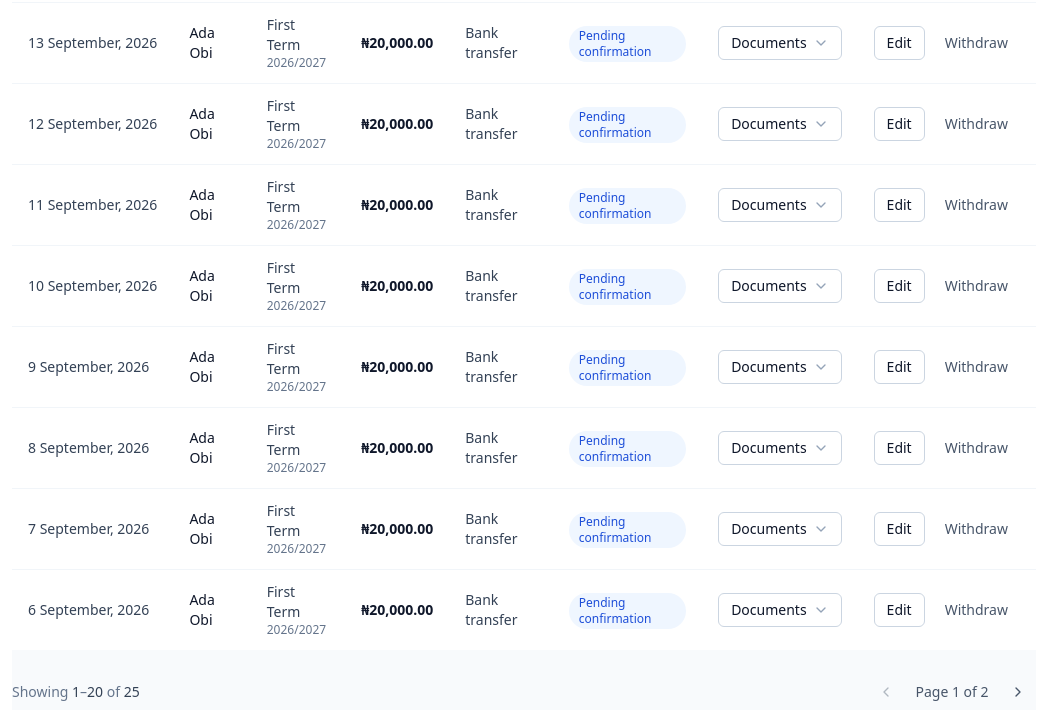
Test: WardPaymentsPage › pages the merged payments 20 at a time and resets to page 1 on a filter change
The image size is (1048, 710).
(page scrolled)
expect the text "Page 1 of 2" is shown: met, box left=916, top=682, right=989, bottom=701
Click the button named "Next page" at [1018, 692], box left=1000, top=674, right=1036, bottom=709
(page scrolled)
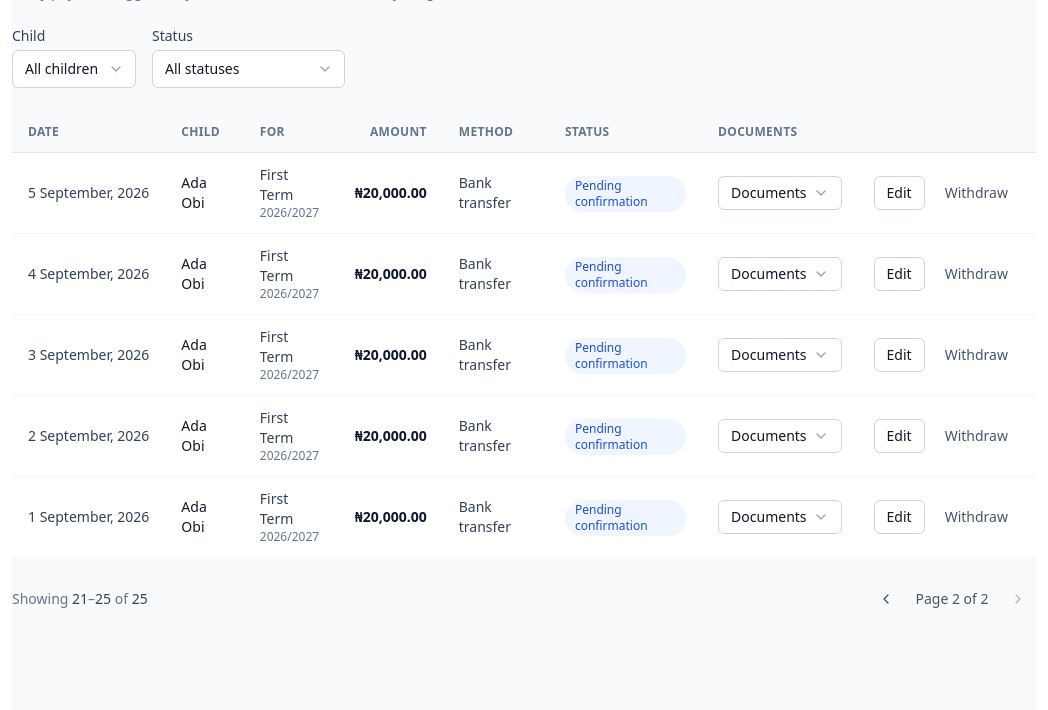
expect the text "Page 2 of 2" is shown: met, box left=916, top=589, right=989, bottom=608
Select "Pending confirmation" in the dropdown labelled "Status" at [248, 69], box left=152, top=50, right=345, bottom=88
(page scrolled)
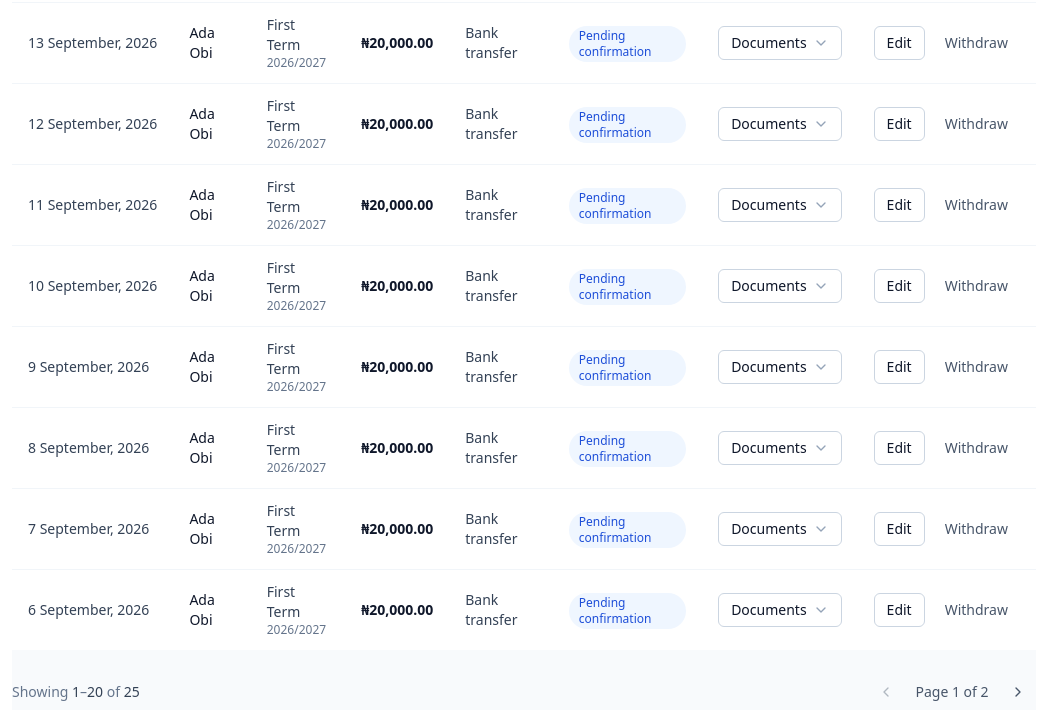
expect the text "Page 1 of 2" is shown: met, box left=916, top=682, right=989, bottom=701
